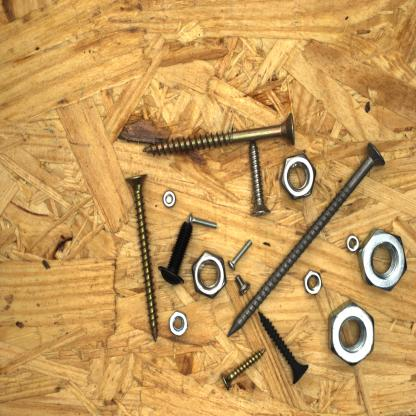screw: (224, 139, 388, 341), (140, 106, 298, 159), (121, 169, 160, 346), (255, 308, 311, 387), (156, 218, 196, 288), (243, 138, 274, 219), (220, 343, 268, 393), (225, 238, 255, 272), (186, 211, 221, 231), (232, 272, 253, 300)
